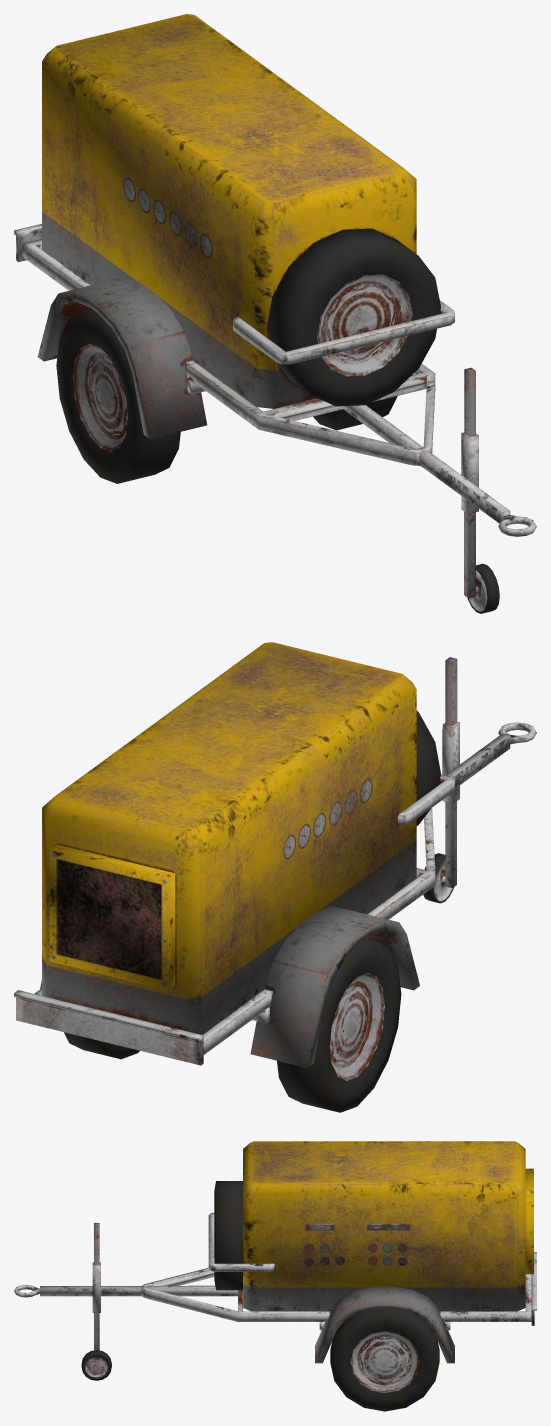
The model's file is generator.glb.
3 views of the same model, one above another, from view 1: azimuth 30°, elevation 25°; view 2: azimuth 150°, elevation 25°; view 3: azimuth 270°, elevation 25° (orthographic). The views are drawn at different scales.
Parts seen in each view (by area): view 1: Torus.003; view 2: Torus.003; view 3: Torus.003.
Part boxes in pixels (x1,y1,x2,y2): Torus.003: (14,14,536,613); Torus.003: (14,642,536,1112); Torus.003: (14,1141,536,1411).
Size of the model in its own units: 2.04 by 2.44 by 5.5.
Materials: 2 (2 with a texture image).
